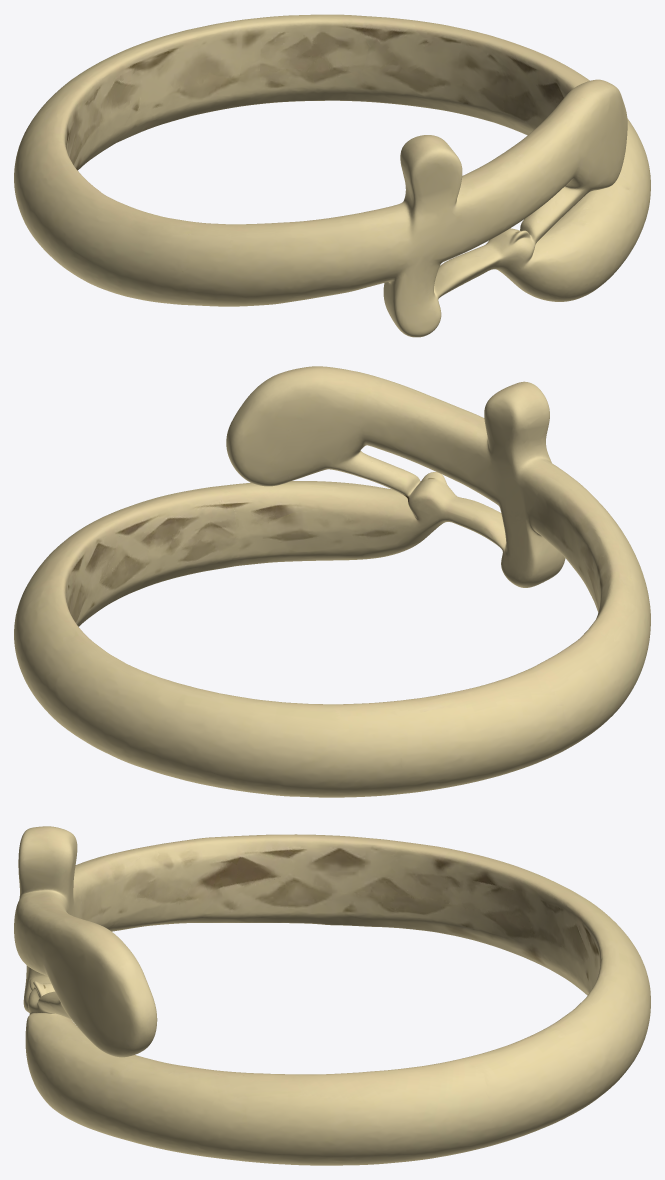
File: gold-ring.glb
The picture shows the model from 3 angles, top to bottom: view 1: azimuth 30°, elevation 25°; view 2: azimuth 150°, elevation 25°; view 3: azimuth 270°, elevation 25°; orthographic projection.
Bounding box in the file's own units: 1.9 × 0.6693 × 1.9.
1 material, 1 textured.
